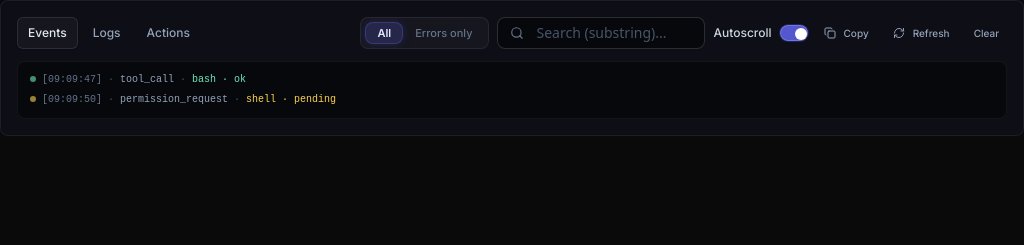
Test case: DevboxConsole error filter › actions tab keeps only rows with a non-zero exit code
Click the button with test id "devbox-console-tab-actions": (168, 33) x1=136 y1=17 x2=201 y2=49
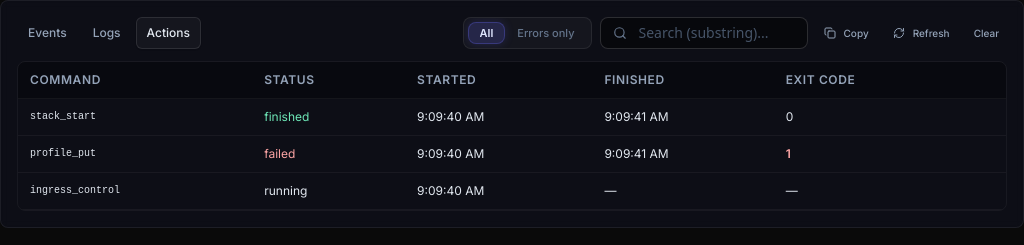
Result: the text "stack_start" is shown at x1=18 y1=98 x2=252 y2=136
Click the button "Errors only": (546, 33) x1=505 y1=21 x2=587 y2=45
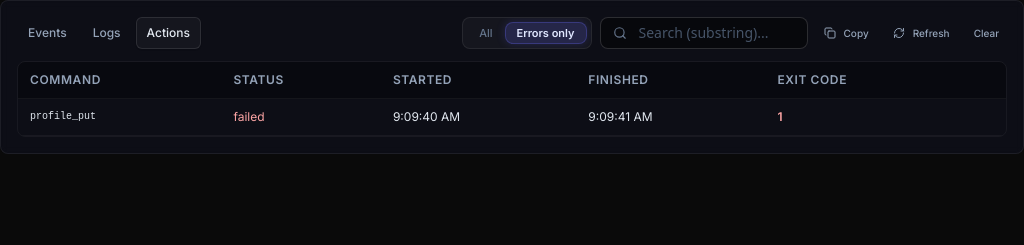
Result: the text "profile_put" is shown at x1=18 y1=98 x2=221 y2=136
Result: the text "stack_start" is gone
Result: the text "ingress_control" is gone
